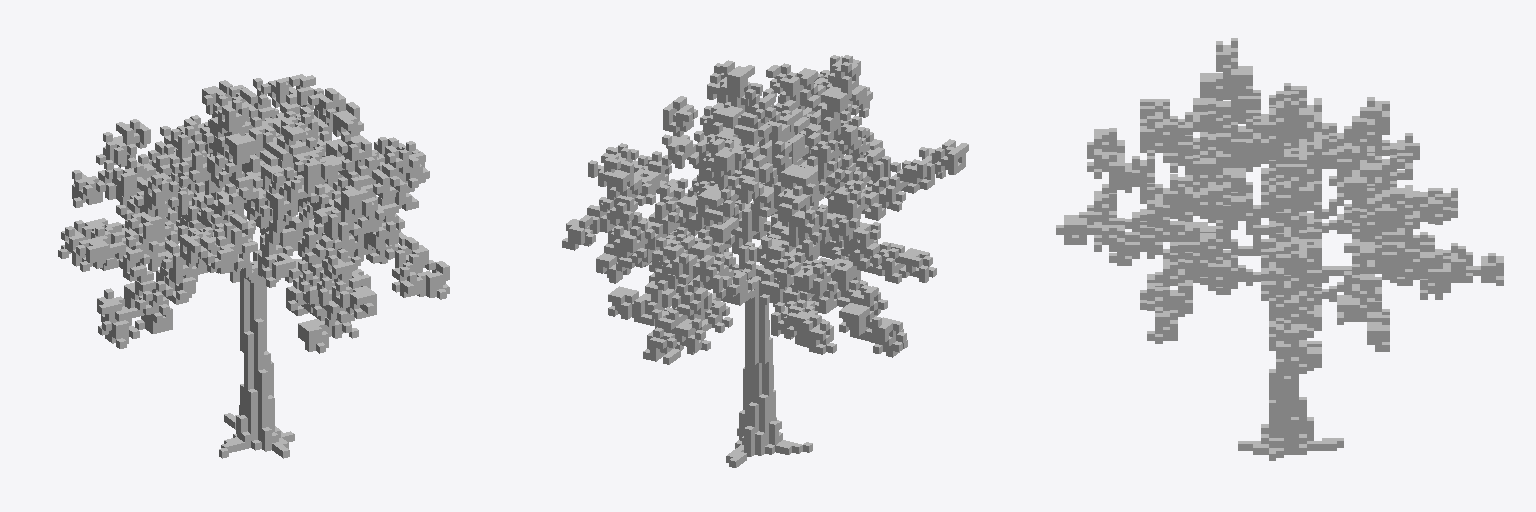
The model's file is TREE.obj.
3 renders of one model, left to right at view 1: azimuth 30°, elevation 25°; view 2: azimuth 150°, elevation 25°; view 3: azimuth 270°, elevation 25°, orthographic.
Parts seen in each view (by area): view 1: object 1; view 2: object 1; view 3: object 1.
Part boxes in pixels (x1,y1,x2,y2): object 1: (58, 74, 449, 458); object 1: (562, 55, 968, 467); object 1: (1056, 38, 1503, 460).
Size of the model in its own units: 5.2 by 5.5 by 5.9.